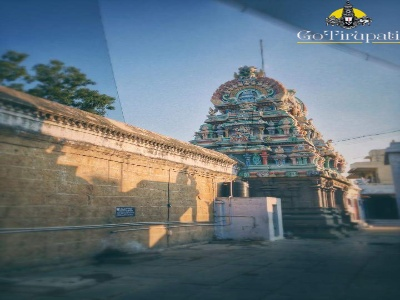gopura: (165, 63, 362, 180)
